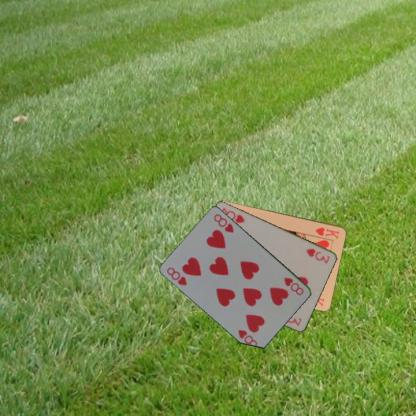3h: (304, 246, 332, 265)
8h: (163, 264, 189, 286), (281, 274, 305, 296)
Kh: (313, 225, 340, 240)
